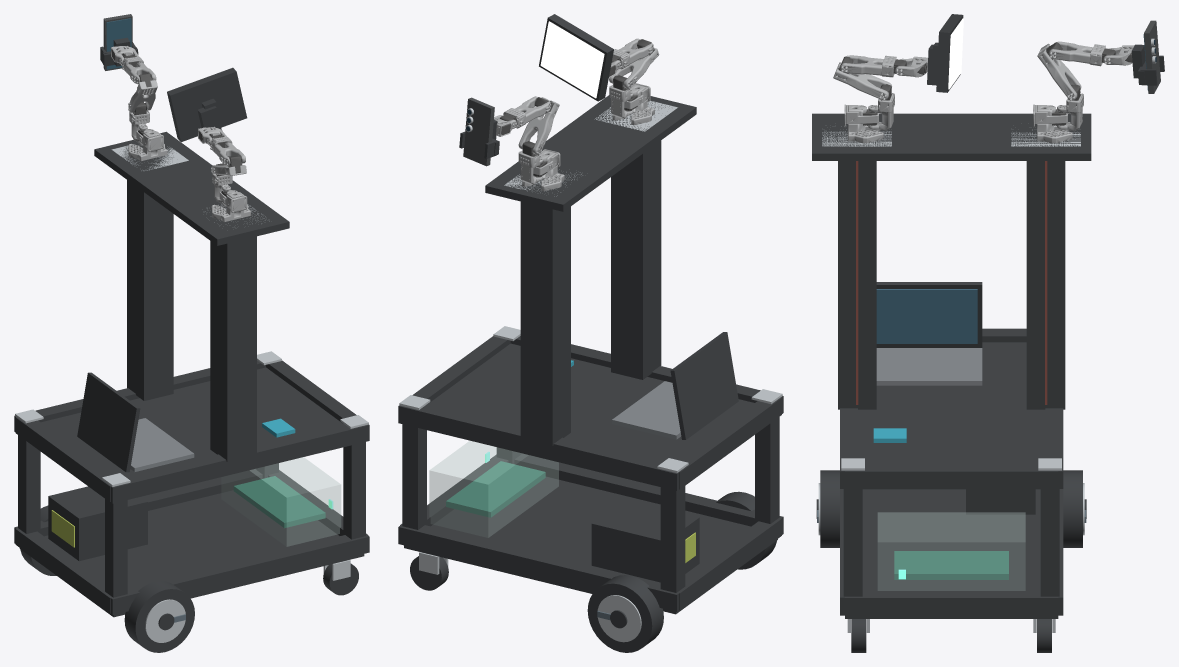
File: take-one-panel.glb
The picture shows the model from 3 angles, left to right: view 1: azimuth 30°, elevation 25°; view 2: azimuth 150°, elevation 25°; view 3: azimuth 270°, elevation 25°; orthographic projection. The views are drawn at different scales.
Parts seen in each view (by area): view 1: cart_box, upright_rear, upright_front, cart_work_deck, cart_deck, electronics_box, frame_side_0.25_0.49, frame_side_0.25_0.15, battery, laptop_lid, light_payload, frame_end_-0.39_0.15 (+19 smaller); view 2: upright_front, cart_work_deck, upright_rear, cart_box, electronics_box, cart_deck, frame_side_-0.25_0.49, frame_side_-0.25_0.15, battery, laptop_lid, frame_side_0.25_0.15, frame_end_-0.39_0.15 (+21 smaller); view 3: cart_work_deck, cart_box, electronics_box, cart_deck, upright_front, upright_rear, laptop_screen, frame_end_0.39_0.15, frame_end_0.39_0.49, laptop_keyboard, electronics_board, corner_leg_-0.24_0.38 (+26 smaller).
Boxes of the visible parts, x1,y1,x2,y2 form: cart_box: (19, 490, 364, 617); upright_rear: (210, 236, 256, 461); upright_front: (127, 180, 173, 400); cart_work_deck: (41, 367, 342, 476); cart_deck: (94, 131, 289, 245); electronics_box: (221, 457, 340, 546); frame_side_0.25_0.49: (105, 424, 369, 503); frame_side_0.25_0.15: (110, 535, 369, 614); battery: (48, 486, 147, 561); laptop_lid: (77, 372, 140, 472); light_payload: (167, 67, 247, 142); frame_end_-0.39_0.15: (15, 528, 110, 613); upright_front: (520, 201, 570, 445); cart_work_deck: (427, 343, 754, 461); upright_rear: (611, 140, 661, 379); cart_box: (404, 476, 777, 614); electronics_box: (429, 441, 558, 537); cart_deck: (485, 95, 696, 211); frame_side_-0.25_0.49: (398, 404, 679, 490); frame_side_-0.25_0.15: (398, 524, 684, 611); battery: (591, 499, 699, 582); laptop_lid: (670, 332, 738, 439); frame_side_0.25_0.15: (514, 453, 783, 534); frame_end_-0.39_0.15: (679, 518, 781, 610); cart_work_deck: (858, 342, 1045, 463); cart_box: (845, 489, 1058, 618); electronics_box: (878, 512, 1025, 590); cart_deck: (812, 113, 1091, 160); upright_front: (1026, 161, 1065, 409); upright_rear: (838, 161, 876, 409); laptop_screen: (876, 289, 977, 343); frame_end_0.39_0.15: (845, 590, 1058, 615); frame_end_0.39_0.49: (845, 464, 1058, 489); laptop_keyboard: (876, 348, 982, 385); electronics_board: (894, 551, 1008, 579); corner_leg_-0.24_0.38: (1040, 489, 1059, 596).
Size of the model in its own units: 0.824 by 1.56 by 0.8594.
